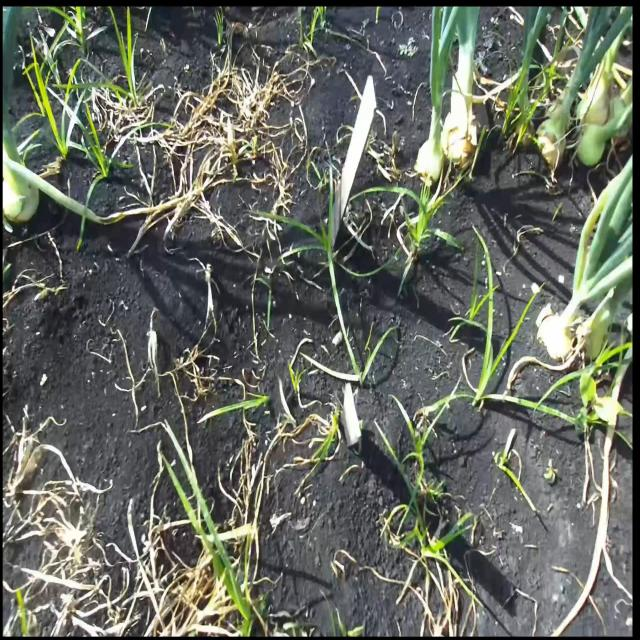onion: (441, 107, 476, 169), (4, 166, 39, 222), (540, 311, 574, 364), (577, 123, 607, 167), (538, 118, 566, 164), (417, 138, 444, 182), (580, 318, 605, 361)
